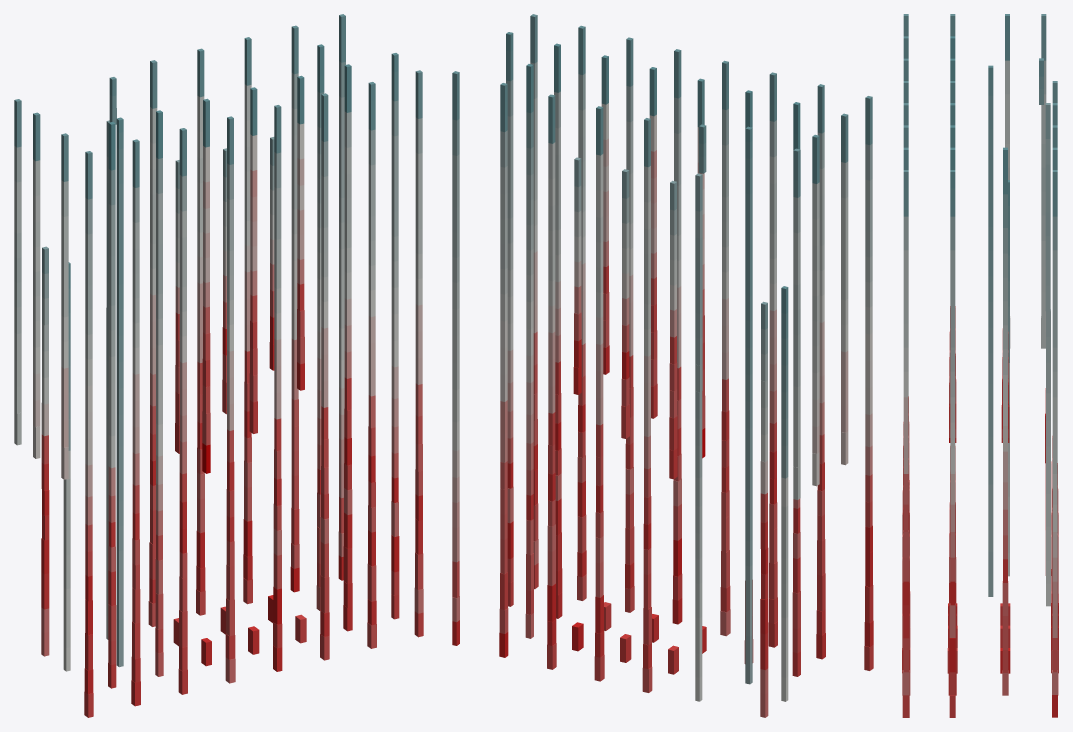
File: Rect-SRC_Fs310MPa_1.glb
3 views of the same model, side by side, from view 1: azimuth 30°, elevation 25°; view 2: azimuth 150°, elevation 25°; view 3: azimuth 270°, elevation 25° (orthographic). The views are drawn at different scales.
Visible parts, largest first — view 1: ACS_0288, ACS_0290, ACS_0295, ACS_0314, ACS_0373, ACS_0088, ACS_0072, ACS_0341, ACS_0317, ACS_0225, ACS_0348, ACS_0333 (+5 smaller); view 2: ACS_0288, ACS_0290, ACS_0329, ACS_0304, ACS_0373, ACS_0088, ACS_0314, ACS_0253, ACS_0333, ACS_0317, ACS_0316, ACS_0348 (+6 smaller); view 3: ACS_0072, ACS_0036, ACS_0062, ACS_0396, ACS_0375, ACS_0313, ACS_0311, ACS_0213, ACS_0250, ACS_0090, ACS_0353, ACS_0092 (+6 smaller).
Part boxes in pixels (left/top/right/bottom): ACS_0288: left=320, top=406, right=329, bottom=660; ACS_0290: left=226, top=429, right=234, bottom=636; ACS_0295: left=343, top=377, right=352, bottom=607; ACS_0314: left=367, top=426, right=376, bottom=648; ACS_0373: left=132, top=563, right=140, bottom=658; ACS_0088: left=61, top=215, right=68, bottom=317; ACS_0072: left=391, top=135, right=398, bottom=236; ACS_0341: left=343, top=437, right=352, bottom=631; ACS_0317: left=179, top=472, right=187, bottom=671; ACS_0225: left=202, top=332, right=210, bottom=445; ACS_0348: left=41, top=463, right=49, bottom=609; ACS_0333: left=367, top=454, right=376, bottom=625; ACS_0288: left=625, top=355, right=634, bottom=612; ACS_0290: left=721, top=378, right=729, bottom=588; ACS_0329: left=643, top=496, right=651, bottom=645; ACS_0304: left=668, top=416, right=678, bottom=674; ACS_0373: left=817, top=514, right=825, bottom=611; ACS_0088: left=841, top=197, right=848, bottom=300; ACS_0314: left=577, top=375, right=586, bottom=600; ACS_0253: left=572, top=339, right=583, bottom=651; ACS_0333: left=577, top=404, right=586, bottom=577; ACS_0317: left=769, top=422, right=777, bottom=623; ACS_0316: left=720, top=410, right=730, bottom=612; ACS_0348: left=760, top=521, right=768, bottom=670; ACS_0072: left=950, top=250, right=955, bottom=347; ACS_0036: left=988, top=95, right=993, bottom=226; ACS_0062: left=988, top=129, right=993, bottom=250; ACS_0396: left=902, top=638, right=909, bottom=717; ACS_0375: left=949, top=581, right=955, bottom=672; ACS_0313: left=903, top=504, right=909, bottom=581; ACS_0311: left=988, top=384, right=993, bottom=436; ACS_0213: left=903, top=397, right=908, bottom=448; ACS_0250: left=1052, top=422, right=1057, bottom=473; ACS_0090: left=1045, top=164, right=1050, bottom=212; ACS_0353: left=1002, top=535, right=1008, bottom=695; ACS_0092: left=903, top=276, right=908, bottom=323.
Size of the model in its own units: 59.75 by 95.9 by 25.
